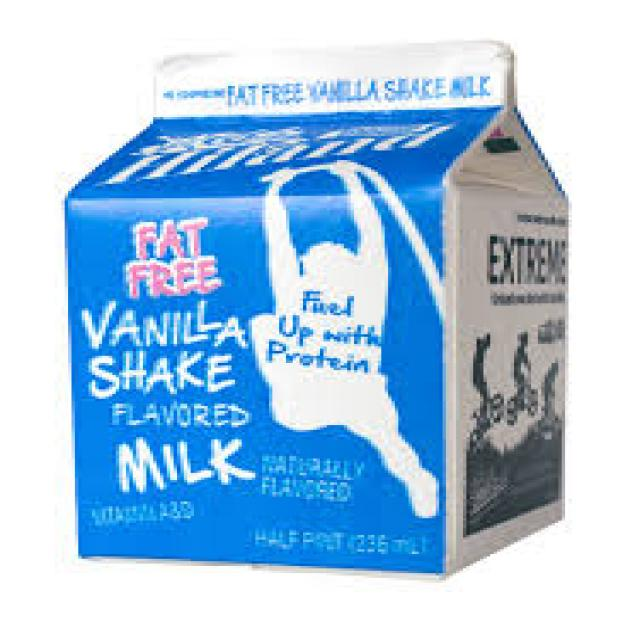non_white_jug: (50, 36, 604, 594)
